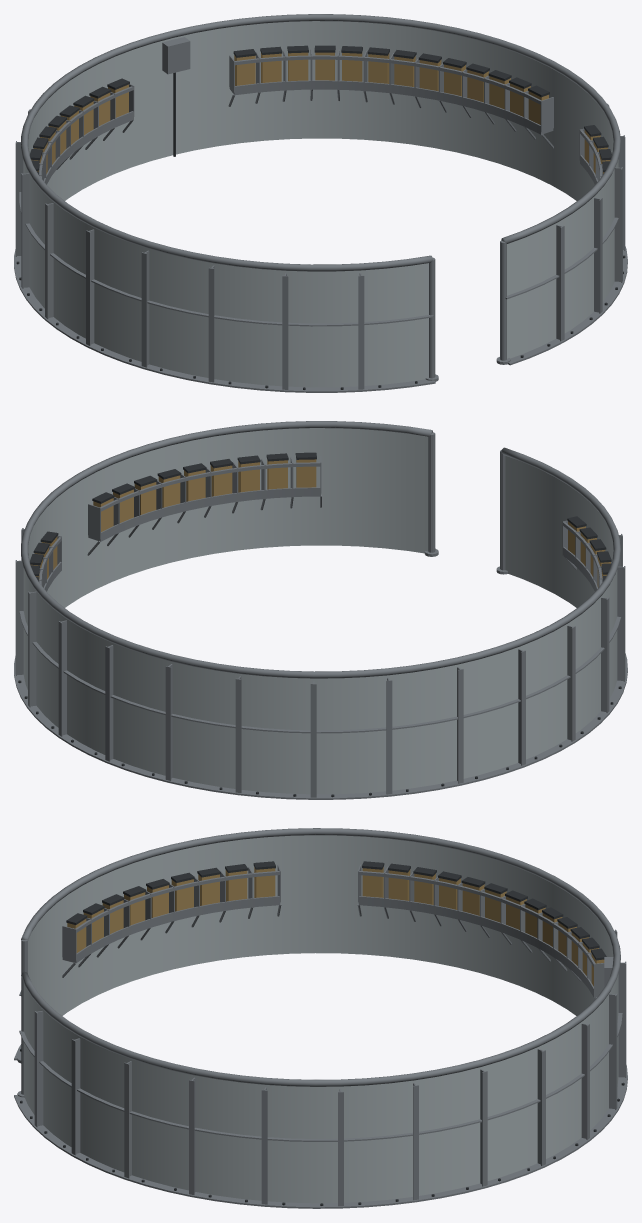
The picture shows the model from 3 angles, top to bottom: view 1: azimuth 30°, elevation 25°; view 2: azimuth 150°, elevation 25°; view 3: azimuth 270°, elevation 25°; orthographic projection.
Visible parts, largest first — view 1: component.root.mesh; view 2: component.root.mesh; view 3: component.root.mesh.
Boxes of the visible parts, <box> form: component.root.mesh: <box>14,14,627,392</box>; component.root.mesh: <box>14,421,627,799</box>; component.root.mesh: <box>14,828,627,1208</box>.
Size of the model in its own units: 5.2 by 1.16 by 5.17.
